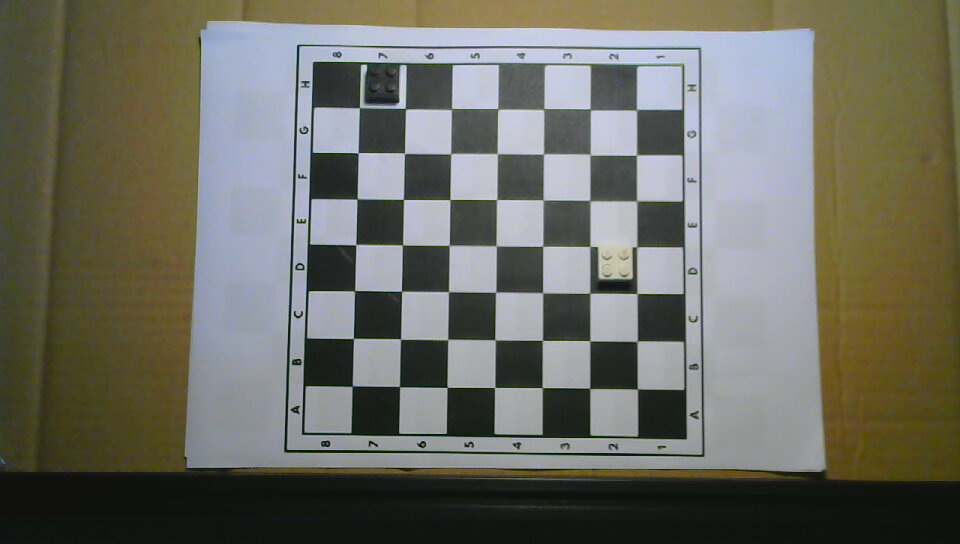bp: (365, 60, 400, 105)
wp: (596, 243, 633, 286)
